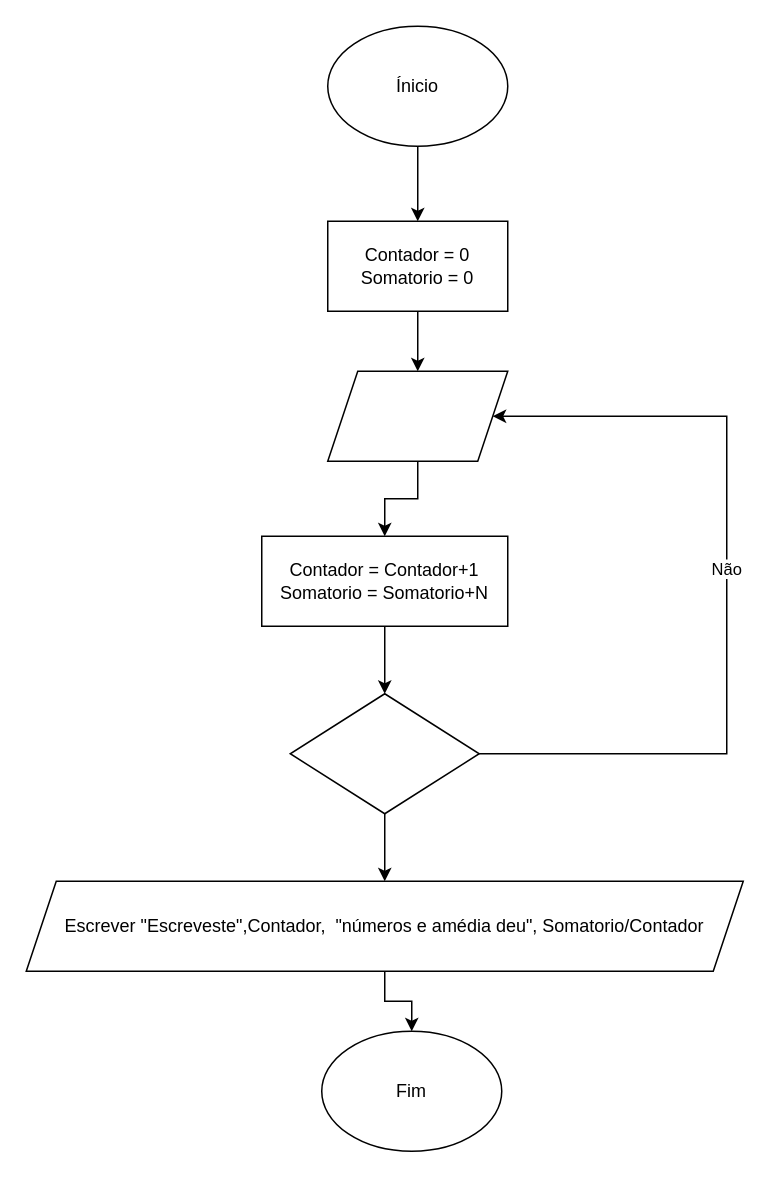
Image size: 770x1178. Some labels were removed from this diagram. The shapes that lost their labels are listed below. From the top down, each one's centre as x and y in pixels, then its label:
At pixel 417 415: "Ler N".
At pixel 384 753: "Somatorio>1000".
